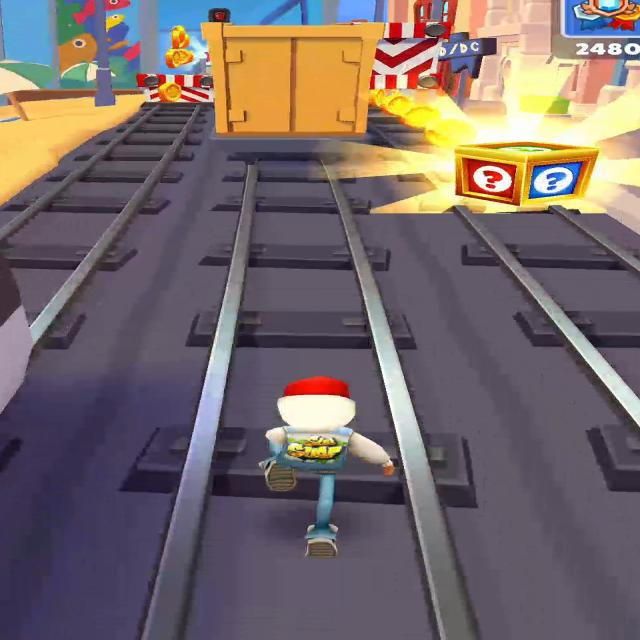jump-barrier: (371, 22, 446, 106)
roll blocker: (138, 74, 212, 102)
train: (202, 18, 395, 158)
